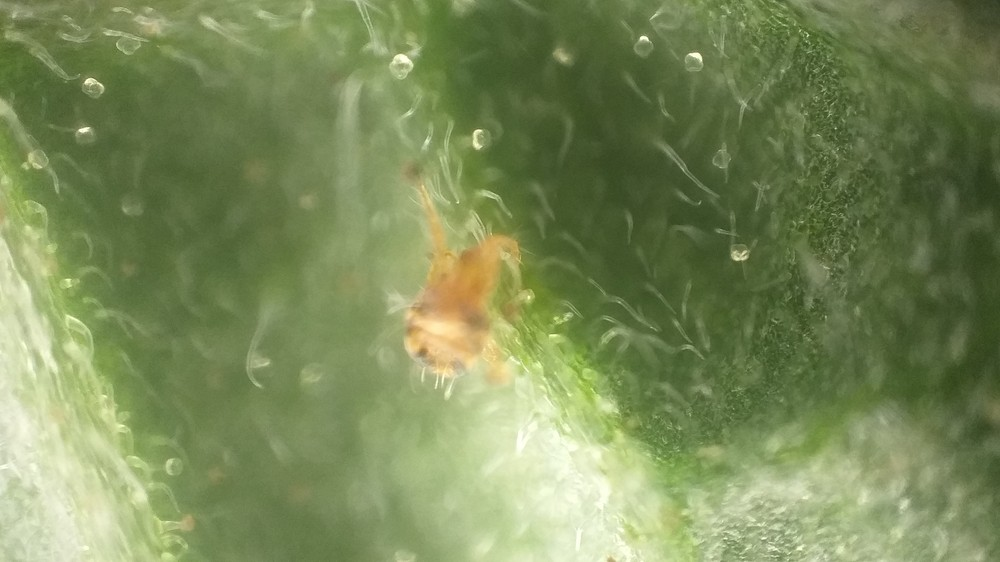Aracnido Rojo: (375, 186, 542, 401)
